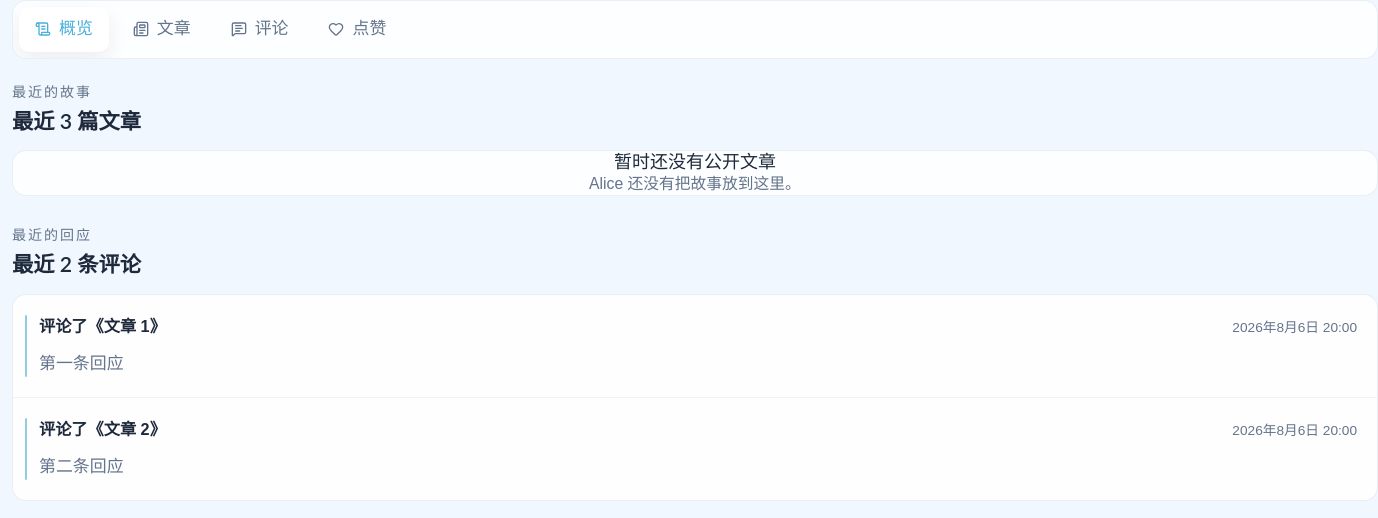
UserTabs comment activity › shows only the two most recent comments in overview and all loaded comments in the comments tab
Expected: the text "第一条回应" is shown, 39,354 -> 124,373
Expected: the text "第二条回应" is shown, 39,457 -> 124,476
What coordinates should you click on to do the following:
click the tab "评论"
I would click on:
 (260, 29)
Its box is 215,7 -> 304,52.
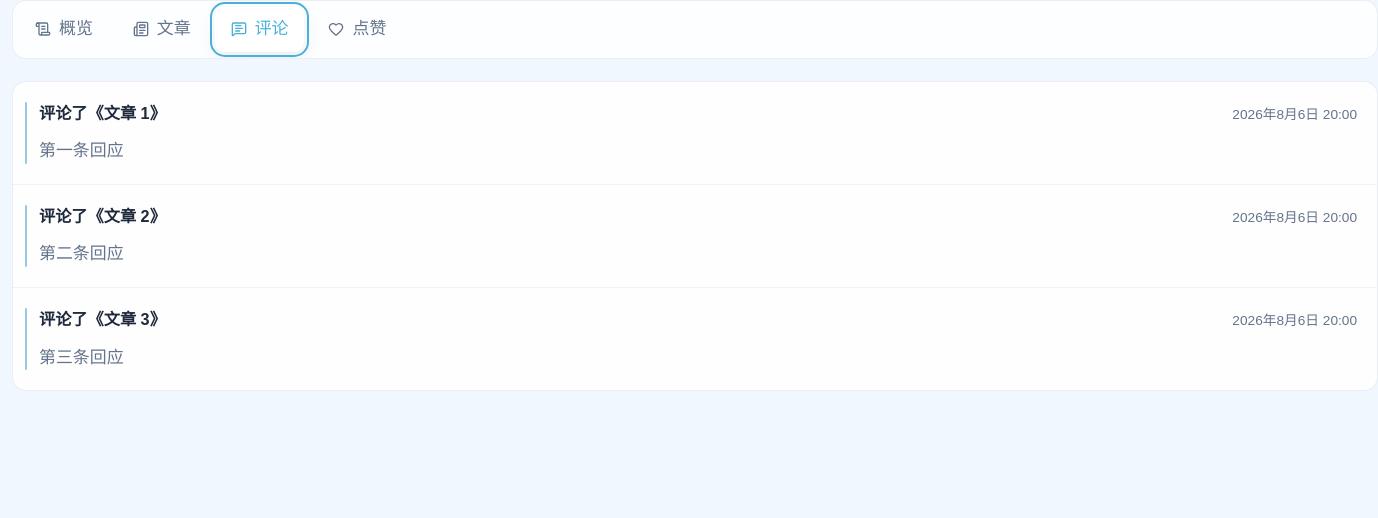
Expected: the text "第一条回应" is shown, 39,141 -> 124,160
Expected: the text "第三条回应" is shown, 39,348 -> 124,367
